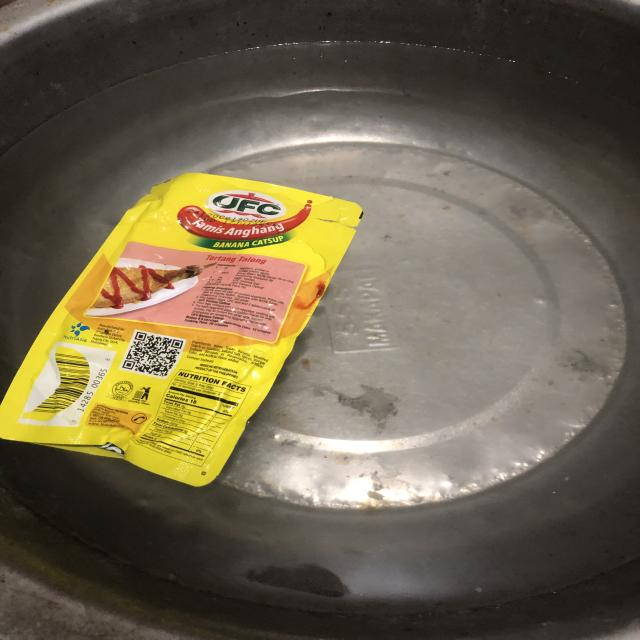Plastic Pouch: (0, 167, 367, 495)
